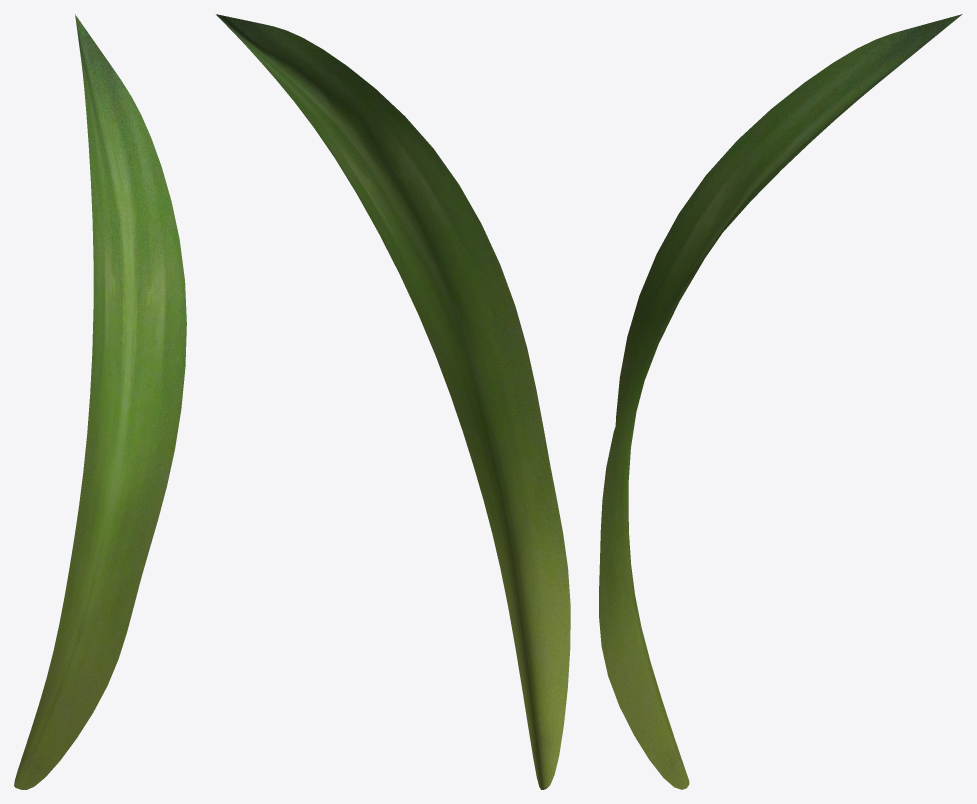
3 views of the same model, side by side, from view 1: azimuth 30°, elevation 25°; view 2: azimuth 150°, elevation 25°; view 3: azimuth 270°, elevation 25° (orthographic). The views are drawn at different scales.
Parts seen in each view (by area): view 1: indoor plant_02.003; view 2: indoor plant_02.003; view 3: indoor plant_02.003.
Boxes of the visible parts, left/top/right/bottom form: indoor plant_02.003: left=14, top=14, right=186, bottom=789; indoor plant_02.003: left=216, top=14, right=570, bottom=789; indoor plant_02.003: left=599, top=14, right=962, bottom=789.
Size of the model in its own units: 0.3841 by 1.3 by 0.4911.
Materials: 1 (1 with a texture image).
